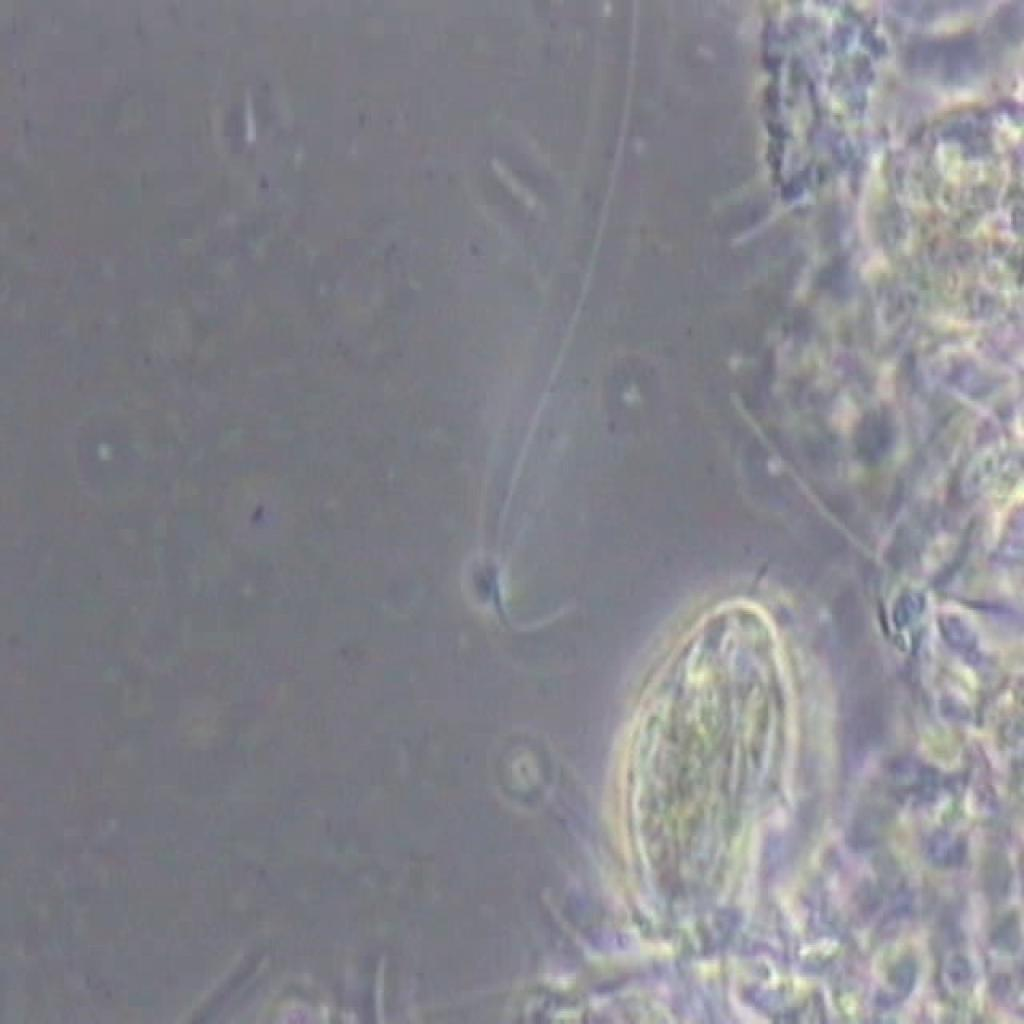Euplotes: (596, 578, 810, 930)
